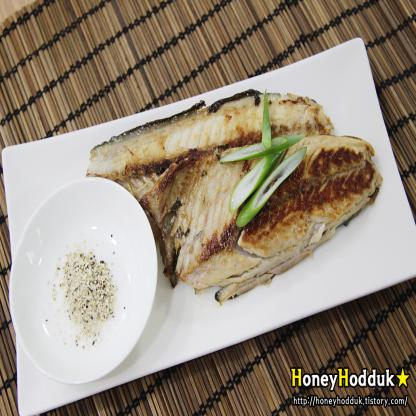Peixe: (142, 61, 381, 314)
